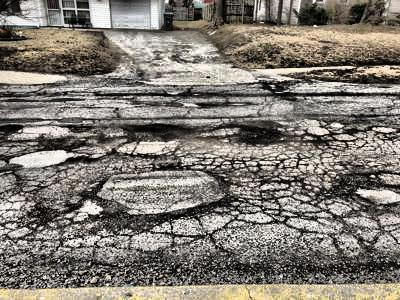pothole: (38, 134, 70, 157), (0, 120, 30, 143), (67, 120, 92, 136)
